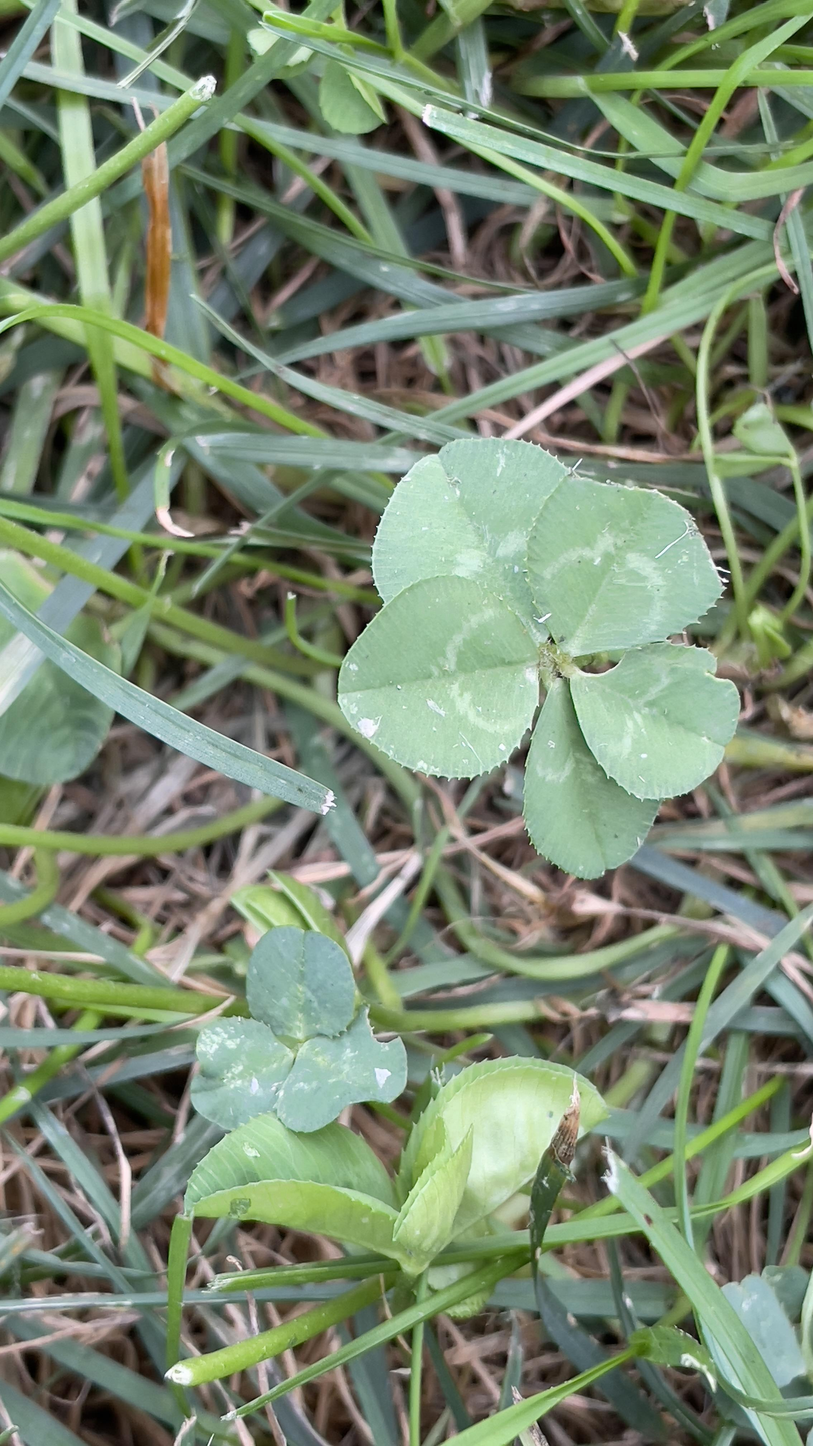5-Leaf-Clovers: (248, 119, 494, 846)
